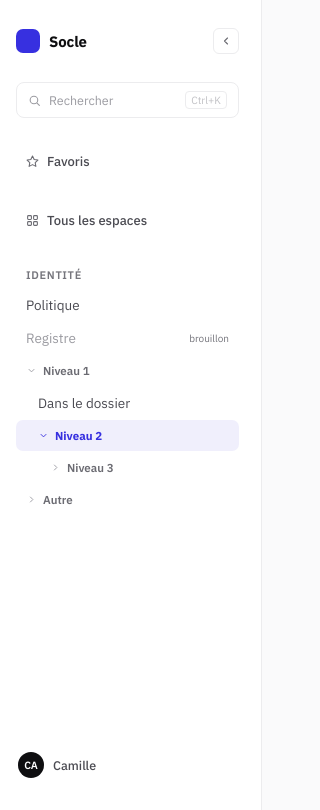
it: ShellSidebar › surligne le dossier actif et garde le repli choisi sur un autre dossier
Step 1. Click the button named "Déplier Autre" → (32, 500), box [26,494,37,505]
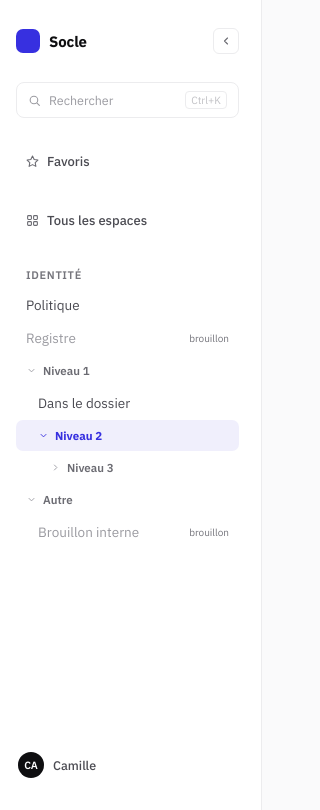
Result: the link "Brouillon interne brouillon" is shown at [38,523,229,541]
Step 2. Click the button named "Replier Autre" → (32, 500), box [26,494,37,505]
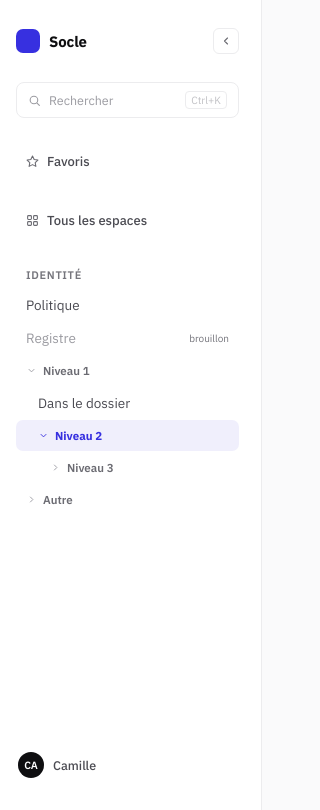
Result: the button named "Déplier Autre" is collapsed at [26,494,37,505]
Result: the link "Brouillon interne" is gone
